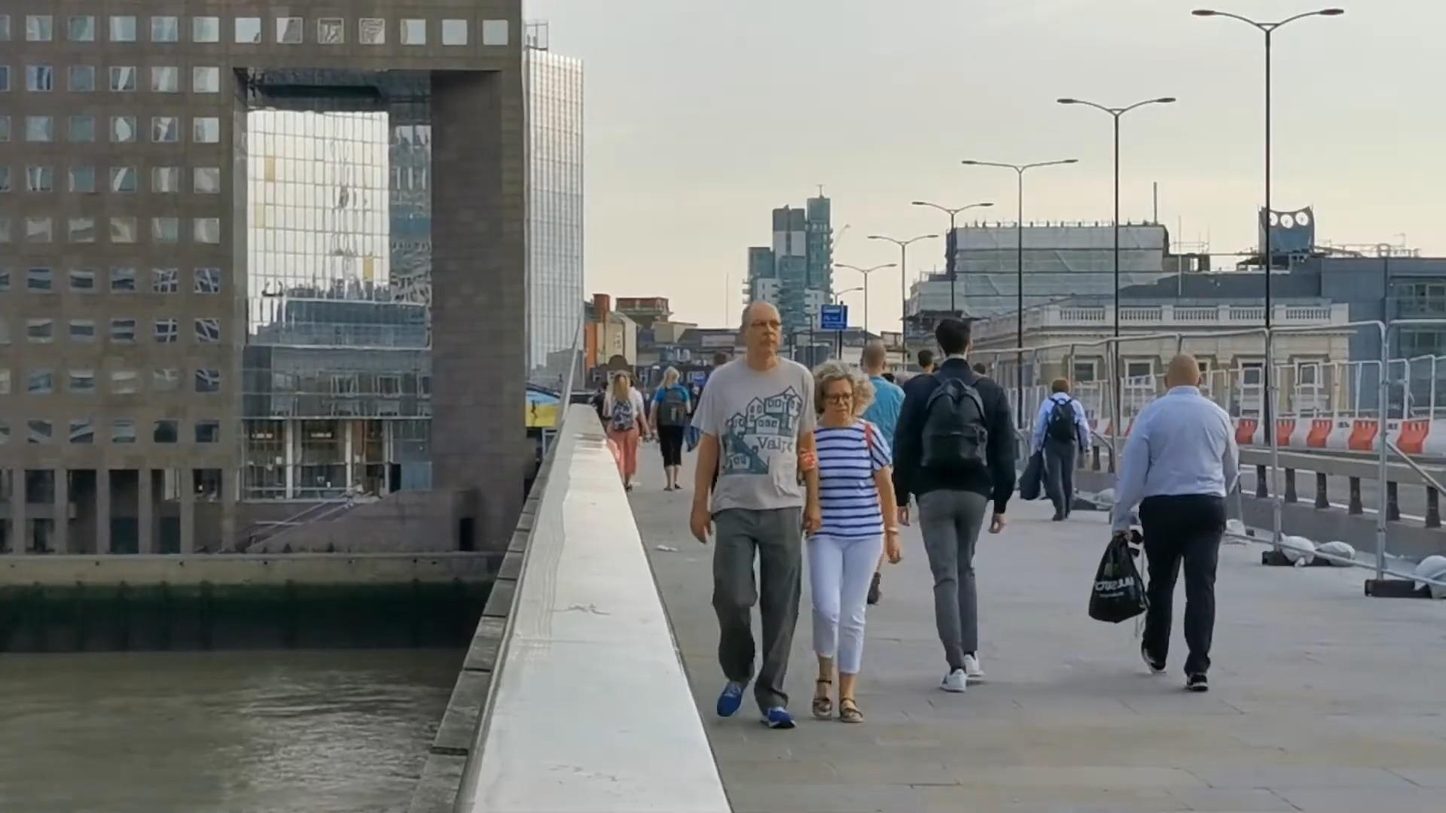no-helmet: (810, 361, 876, 422), (739, 301, 784, 358), (936, 318, 974, 361), (1164, 353, 1205, 391), (859, 343, 888, 378), (612, 370, 631, 397), (659, 366, 681, 389), (917, 350, 936, 373)
